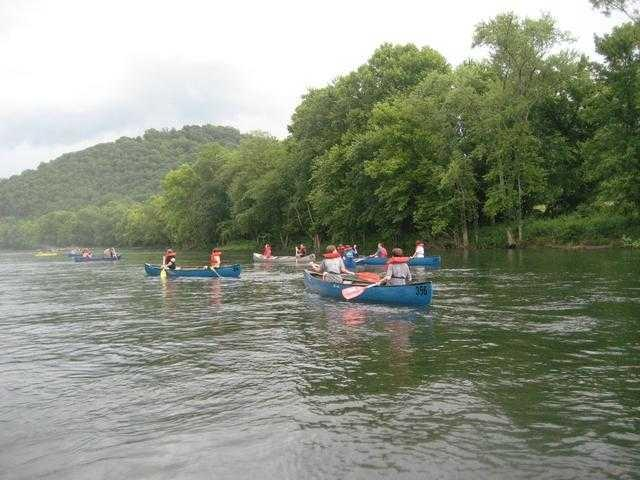kayak: (303, 268, 434, 305), (146, 265, 244, 282)
